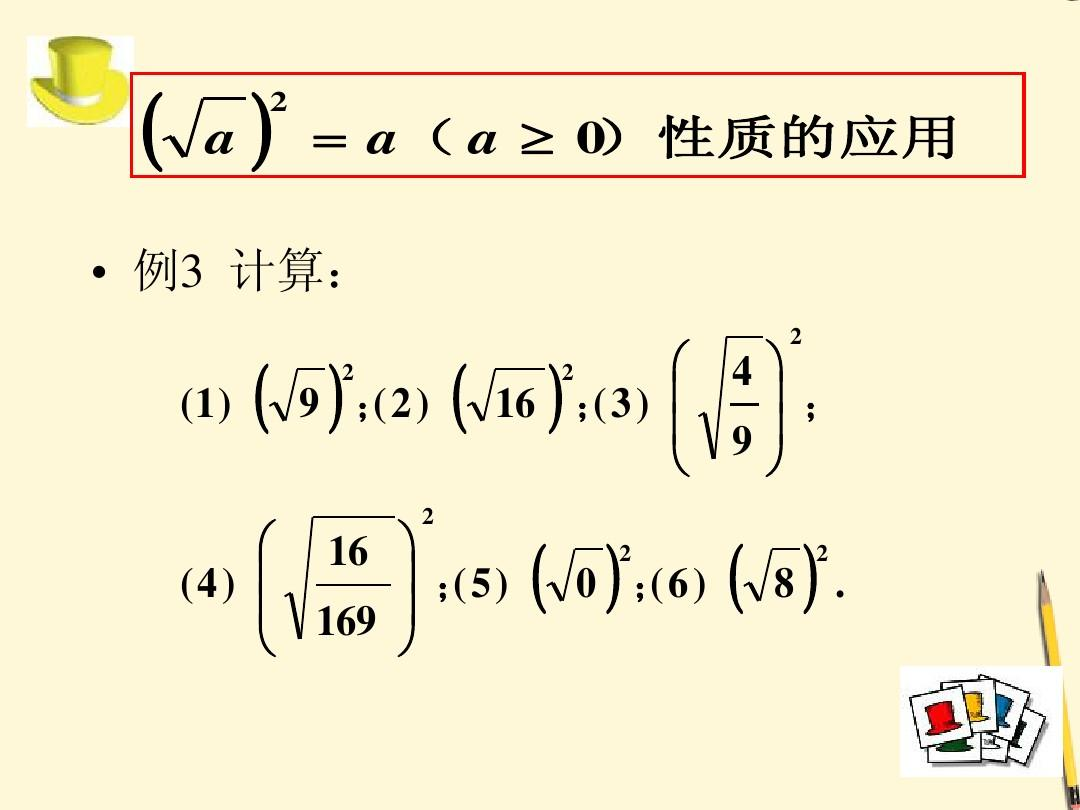division: (315, 580, 393, 593), (729, 394, 757, 410)
sqrt: (281, 509, 403, 646), (701, 331, 767, 461), (460, 363, 548, 431), (164, 93, 247, 159), (547, 545, 611, 603), (270, 363, 327, 427), (747, 542, 803, 604), (186, 83, 222, 124)
square: (265, 89, 289, 114), (809, 539, 827, 568), (615, 539, 631, 568), (559, 359, 575, 384), (790, 321, 804, 348), (419, 505, 433, 527), (340, 362, 353, 382)
